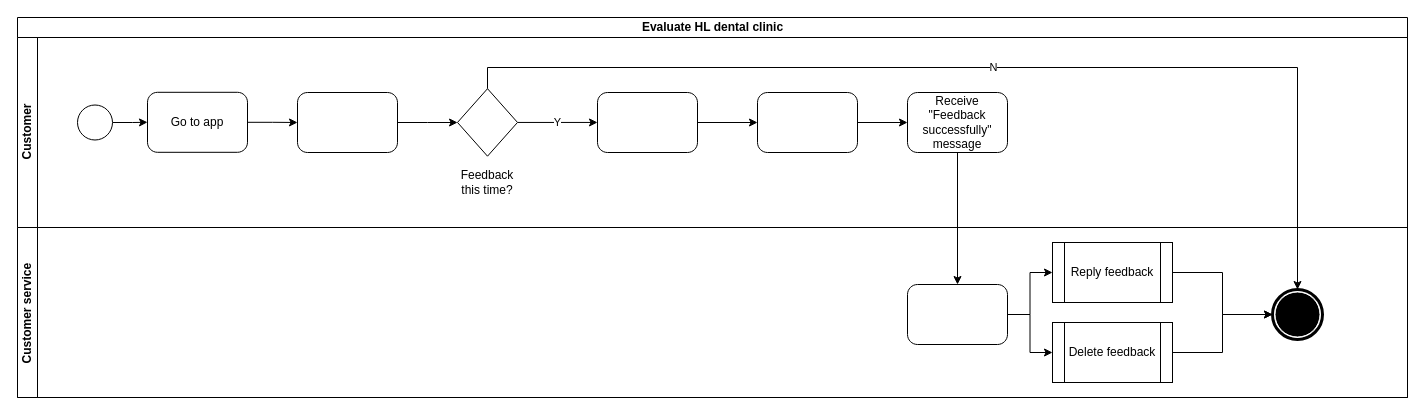
Image size: 1425x415. Some labels were removed from this diagram. The centre of each missing label's shape, as x and y in pixels:
"Give feedback" belongs at (647,122).
"Login & Receive evaluation notification" belongs at (347,122).
"Receive & view feedback" belongs at (957,314).
"Submit feedback" belongs at (807,122).
